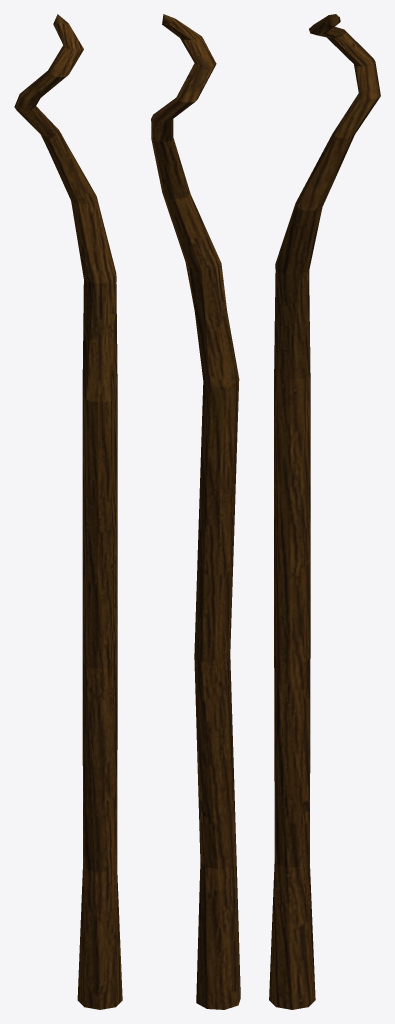
File: staff_handle.glb
3 renders of one model, left to right at view 1: azimuth 90°, elevation 25°; view 2: azimuth 150°, elevation 25°; view 3: azimuth 270°, elevation 25°, orthographic. The views are drawn at different scales.
Parts seen in each view (by area): view 1: staff; view 2: staff; view 3: staff.
Boxes of the visible parts, x1,y1,x2,y2 form: staff: (14,14,122,1009); staff: (151,14,240,1009); staff: (269,14,380,1009).
Bounding box in the file's own units: 0.137 × 2.01 × 0.2017.
Materials: 1 (1 with a texture image).
